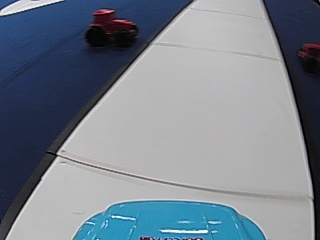tractor: (85, 7, 139, 48), (296, 41, 319, 73)
